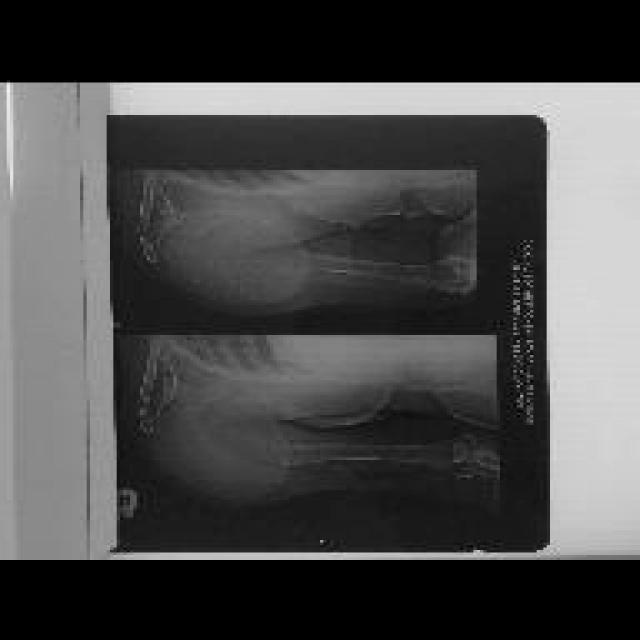bone-cancer: (144, 179, 337, 314), (131, 385, 307, 509)
